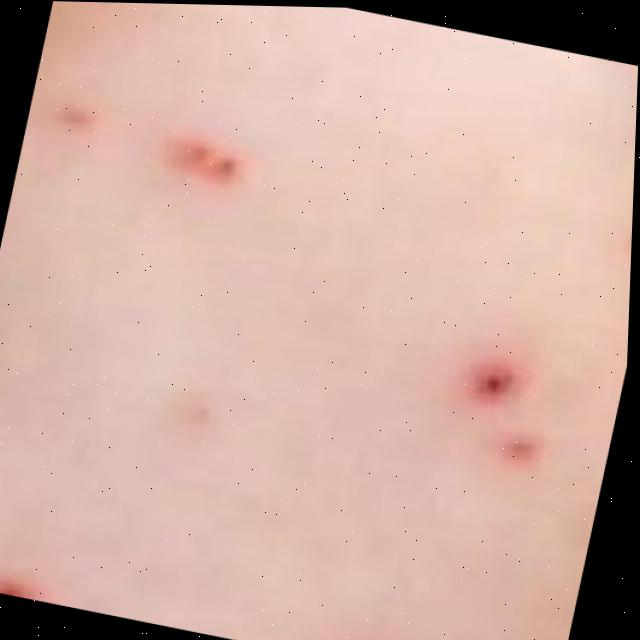Eczema: (445, 361, 556, 475), (190, 152, 260, 187)
